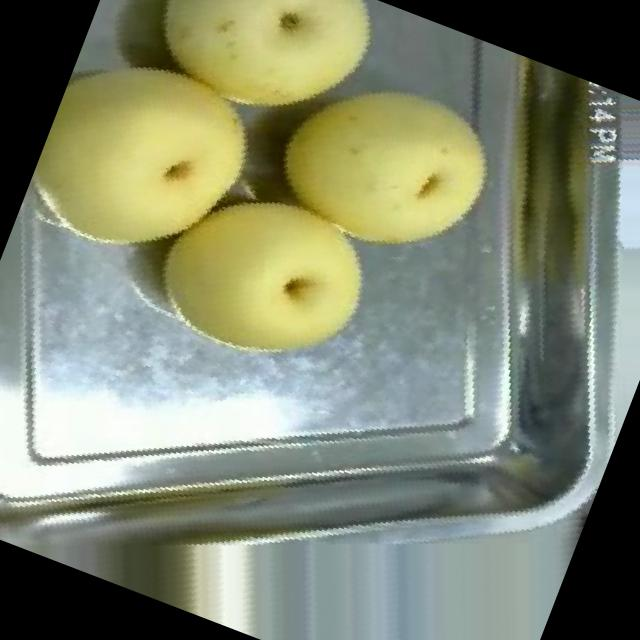Fruit: (8, 9, 306, 319), (229, 17, 545, 308), (110, 136, 411, 422), (104, 0, 420, 187)
